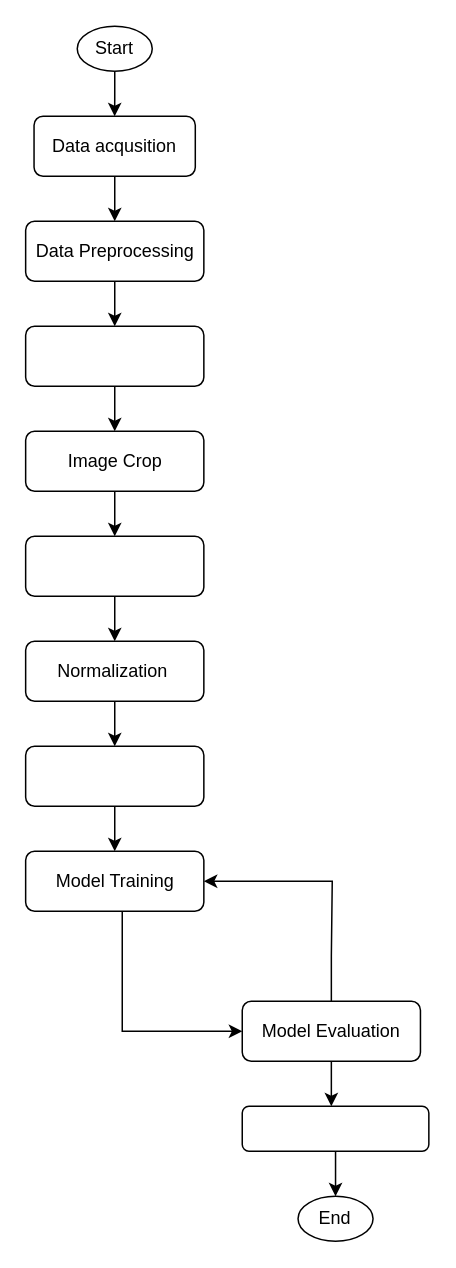
The diagram is 456 pixels wide and 1268 high, and some of its shapes have lost their labels. The shapes that lost their labels are listed below. From the top down, each one's centre as x and y in pixels, then its label:
At (114,355): "Data Augmentation".
At (114,565): "Image Resize".
At (114,775): "Autoencoder Architecture Building".
At (335,1128): "Results Visualization".
